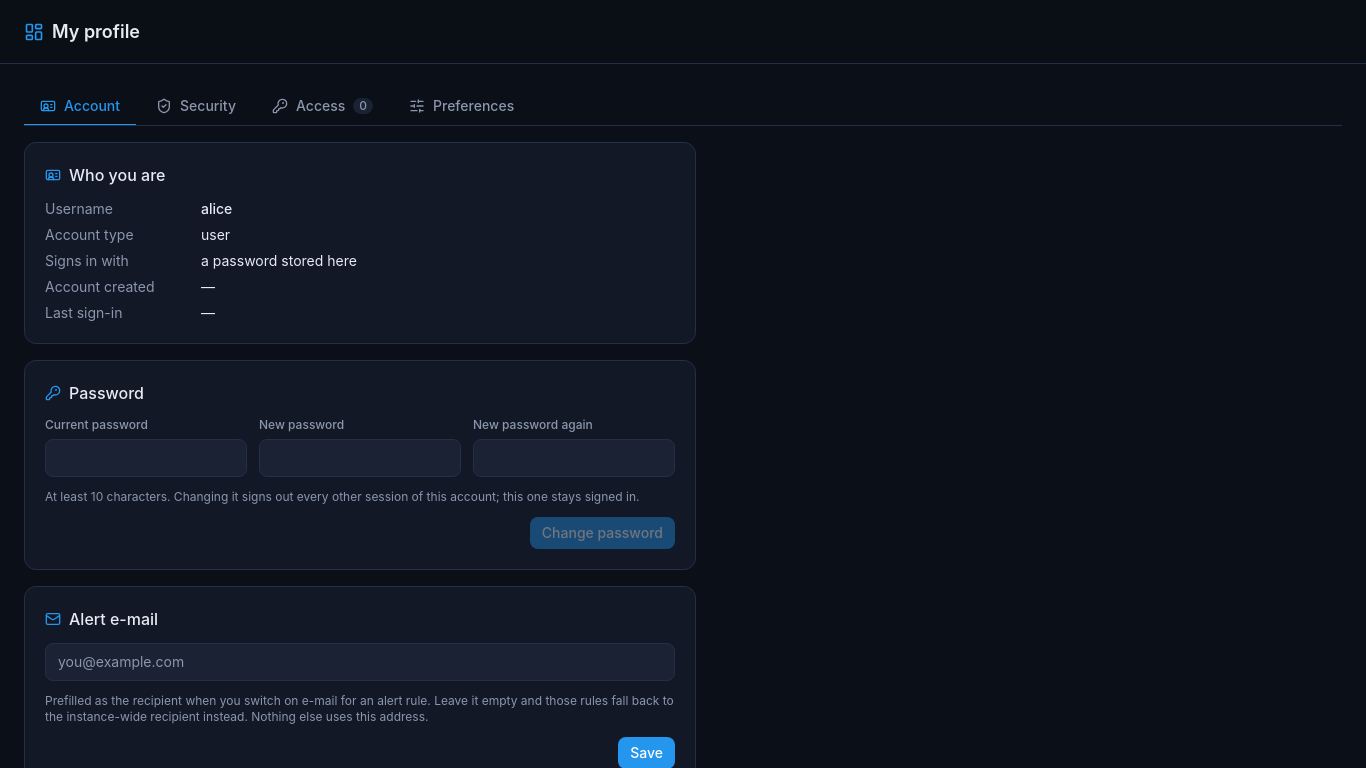
Test: Profile → Security → adding a factor to a passkey-only account › asks for the password
What coordinates should you click on to do the following:
click the button "Security"
I would click on:
 (196, 107)
Its box is [140,88,252,126].
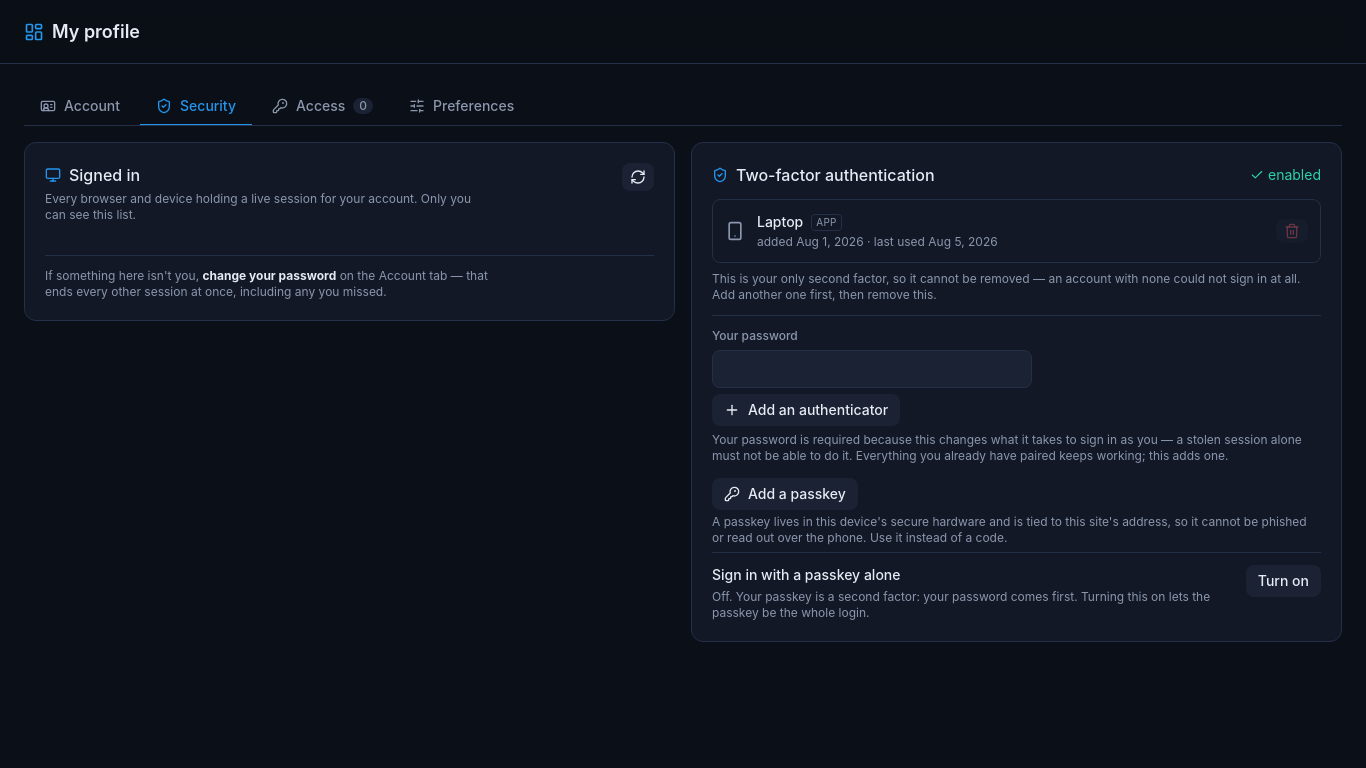
Now the password field with id "repair-password" is shown, box [712,350,1032,388]
